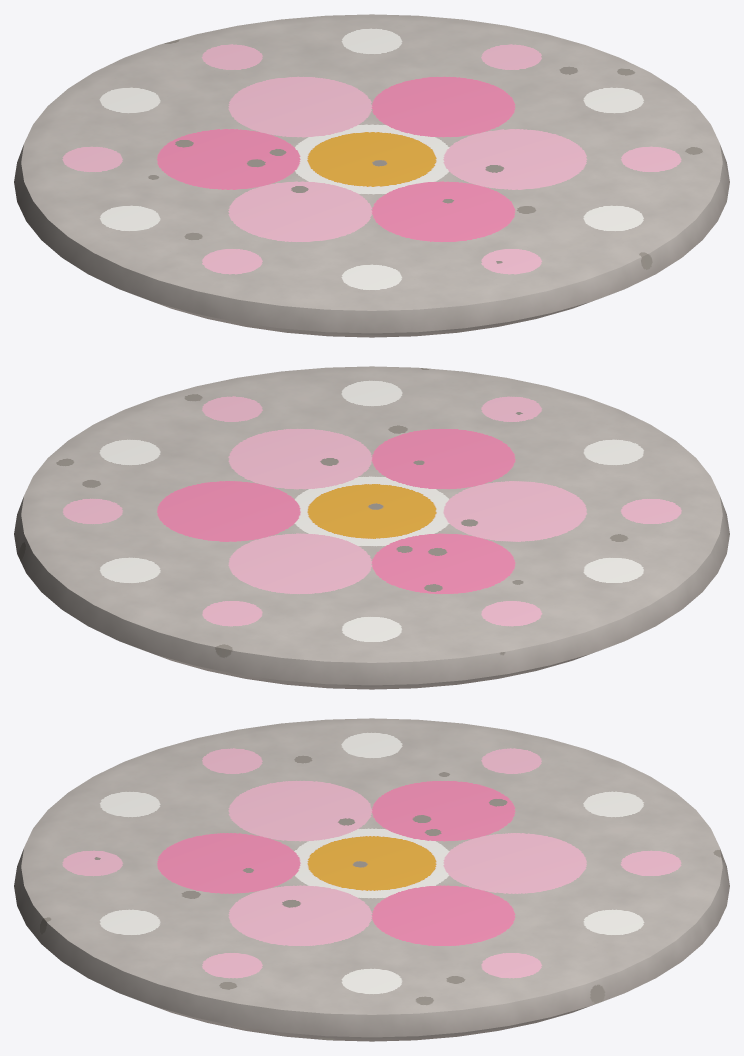
The model's file is spawn_pad.fbx.
3 views of the same model, one above another, from view 1: azimuth 30°, elevation 25°; view 2: azimuth 150°, elevation 25°; view 3: azimuth 270°, elevation 25° (orthographic).
Visible parts, largest first — view 1: spawn_pad; view 2: spawn_pad; view 3: spawn_pad.
Part boxes in pixels (x1,y1,x2,y2): spawn_pad: (14,14,729,337); spawn_pad: (14,366,729,689); spawn_pad: (14,718,729,1041).
Bounding box in the file's own units: 1000 × 60 × 1000.
1 material, 1 textured.
